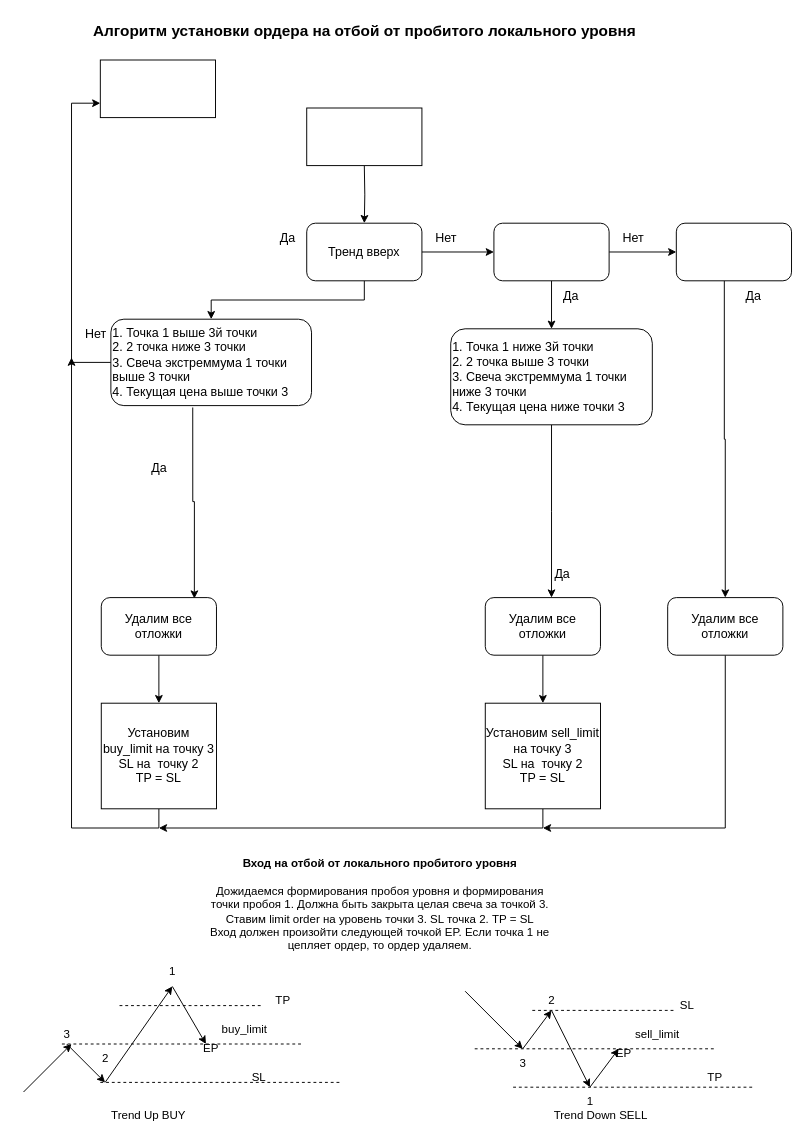
Image size: 808x1146. Some labels were removed from this diagram. Each missing label, with the centre of its shape:
Выход: the point at 157,88
Старт: the point at 364,136
Тренд вниз: the point at 551,251
Флэт: the point at 733,251
